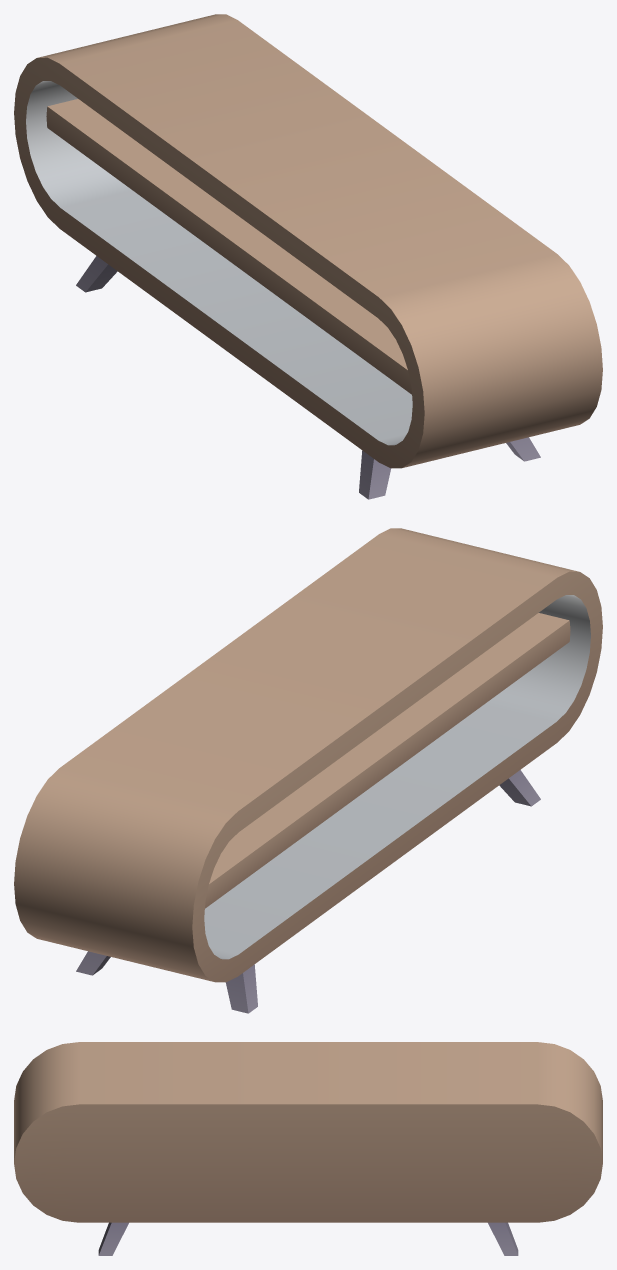
File: tv-cabinet-curved.glb
3 views of the same model, one above another, from view 1: azimuth 30°, elevation 25°; view 2: azimuth 150°, elevation 25°; view 3: azimuth 270°, elevation 25° (orthographic). The views are drawn at different scales.
Visible parts, largest first — view 1: tv-cabinet-curved; view 2: tv-cabinet-curved; view 3: tv-cabinet-curved.
Boxes of the visible parts, x1,y1,x2,y2 form: tv-cabinet-curved: [14, 14, 602, 499]; tv-cabinet-curved: [14, 528, 602, 1013]; tv-cabinet-curved: [14, 1042, 602, 1255].
Size of the model in its own units: 0.4 by 0.456 by 1.6.
